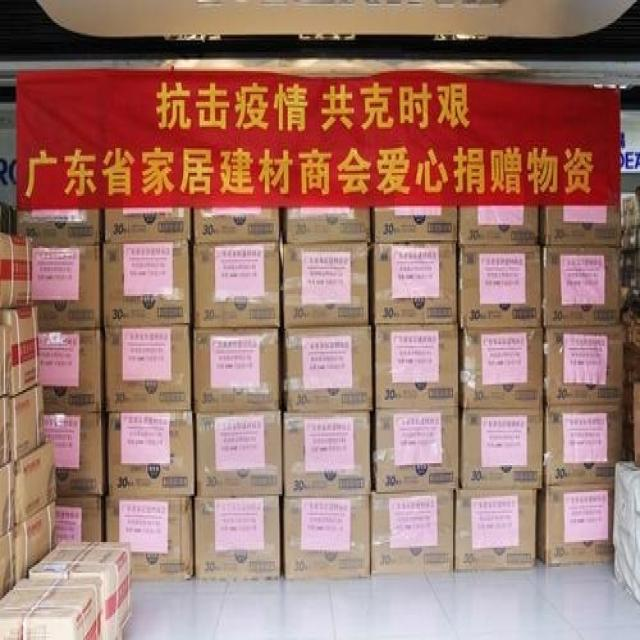box: (29, 542, 132, 640), (283, 325, 374, 413), (104, 494, 195, 580), (104, 325, 192, 413), (193, 409, 282, 496), (282, 242, 370, 329), (105, 411, 195, 496), (192, 327, 283, 411), (372, 323, 460, 409), (104, 242, 193, 327), (193, 242, 282, 327), (282, 411, 371, 496), (283, 494, 372, 578), (371, 409, 460, 492), (195, 496, 282, 580), (371, 490, 456, 575), (371, 242, 458, 325), (454, 488, 538, 573), (458, 327, 544, 409), (458, 244, 541, 327), (460, 409, 544, 490), (543, 325, 625, 406), (541, 244, 621, 327), (536, 482, 614, 567), (544, 406, 625, 486), (0, 578, 104, 640), (31, 244, 100, 332), (38, 327, 105, 415), (42, 413, 108, 496), (0, 306, 38, 396), (14, 444, 56, 525), (15, 208, 104, 246), (15, 498, 56, 580), (370, 206, 457, 244), (457, 206, 539, 246), (192, 208, 280, 244), (282, 208, 370, 244), (539, 206, 621, 244), (6, 381, 44, 461), (104, 208, 192, 242), (0, 231, 32, 308), (55, 494, 104, 542), (0, 527, 17, 602), (0, 461, 15, 540), (0, 388, 10, 475), (0, 323, 9, 396)
